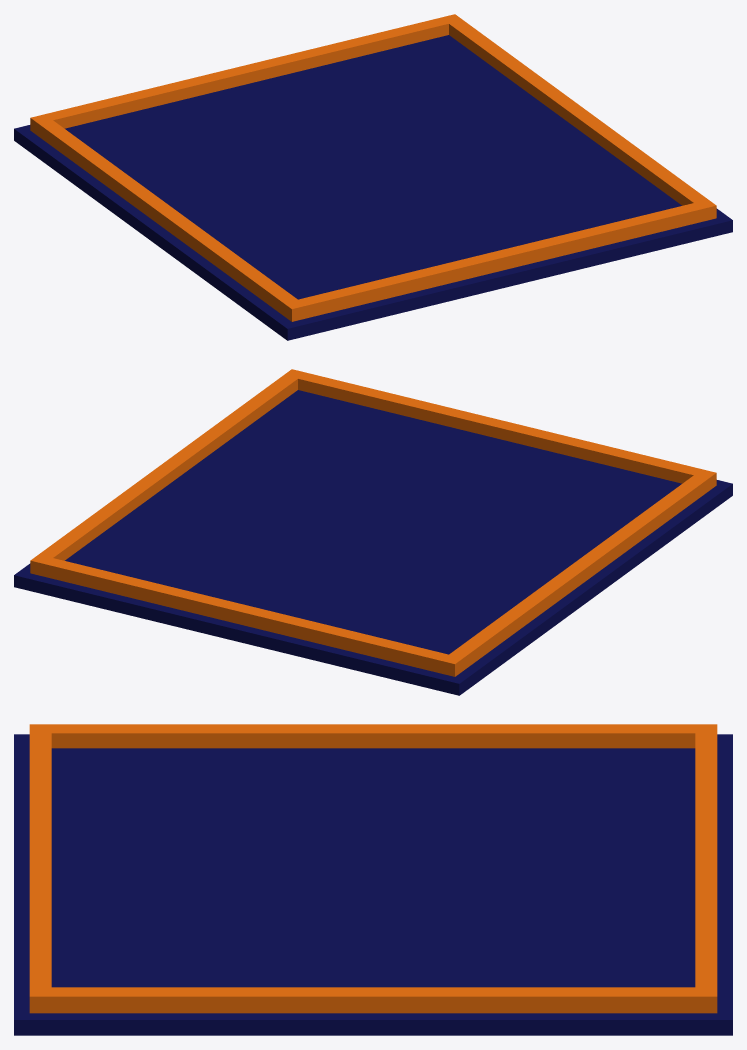
Rendered from Button.FBX.
3 views of the same model, one above another, from view 1: azimuth 30°, elevation 25°; view 2: azimuth 150°, elevation 25°; view 3: azimuth 270°, elevation 25° (orthographic). The views are drawn at different scales.
Visible parts, largest first — view 1: Button; view 2: Button; view 3: Button.
Part boxes in pixels (left/top/right/bottom): Button: left=14, top=14, right=732, bottom=340; Button: left=14, top=369, right=732, bottom=695; Button: left=14, top=724, right=732, bottom=1035.
Bounding box in the file's own units: 8.85 × 0.4698 × 9.41.
